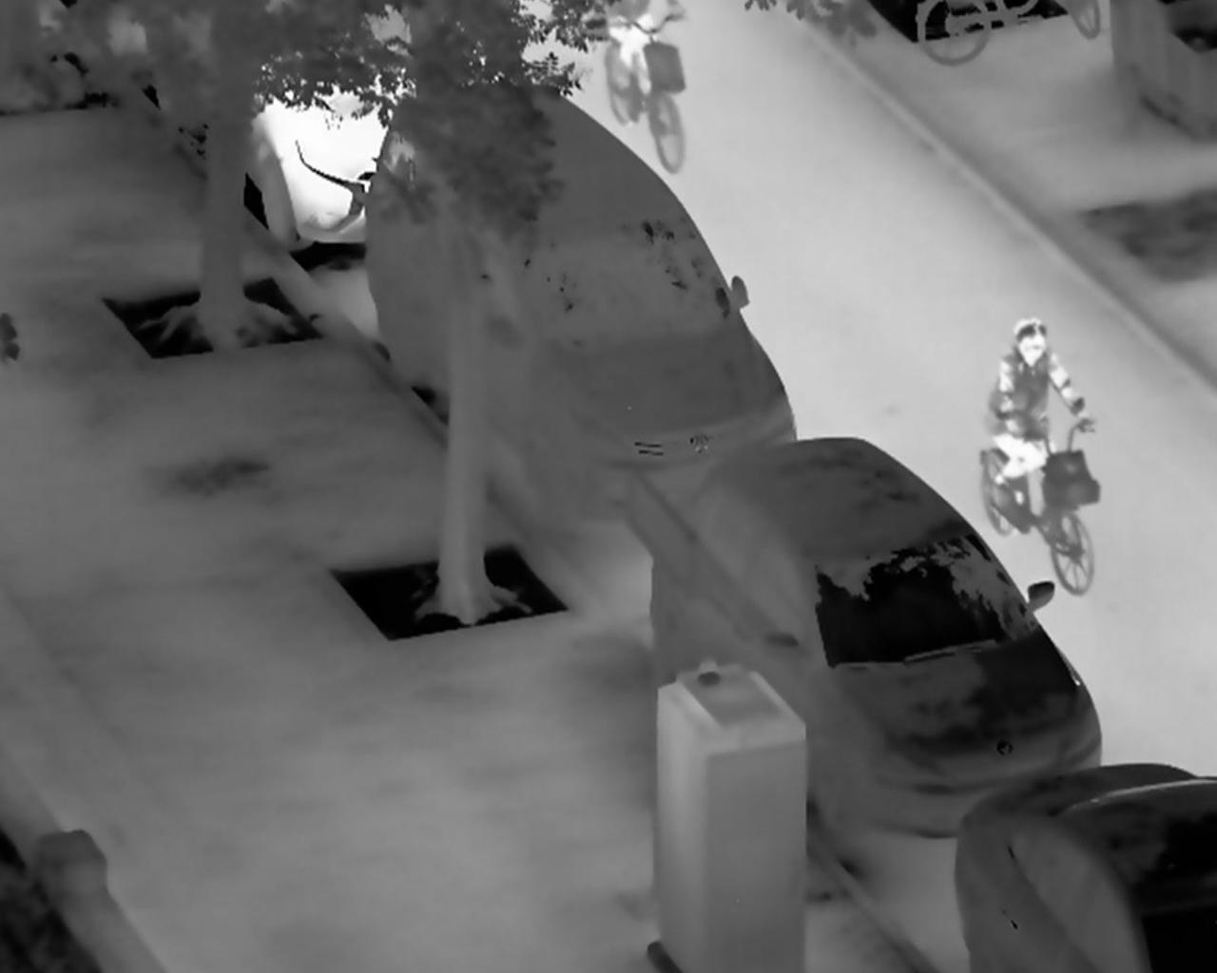person: (986, 313, 1099, 529)
